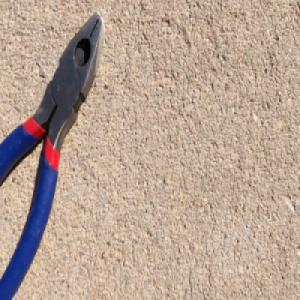Pliers: (0, 8, 105, 300)
